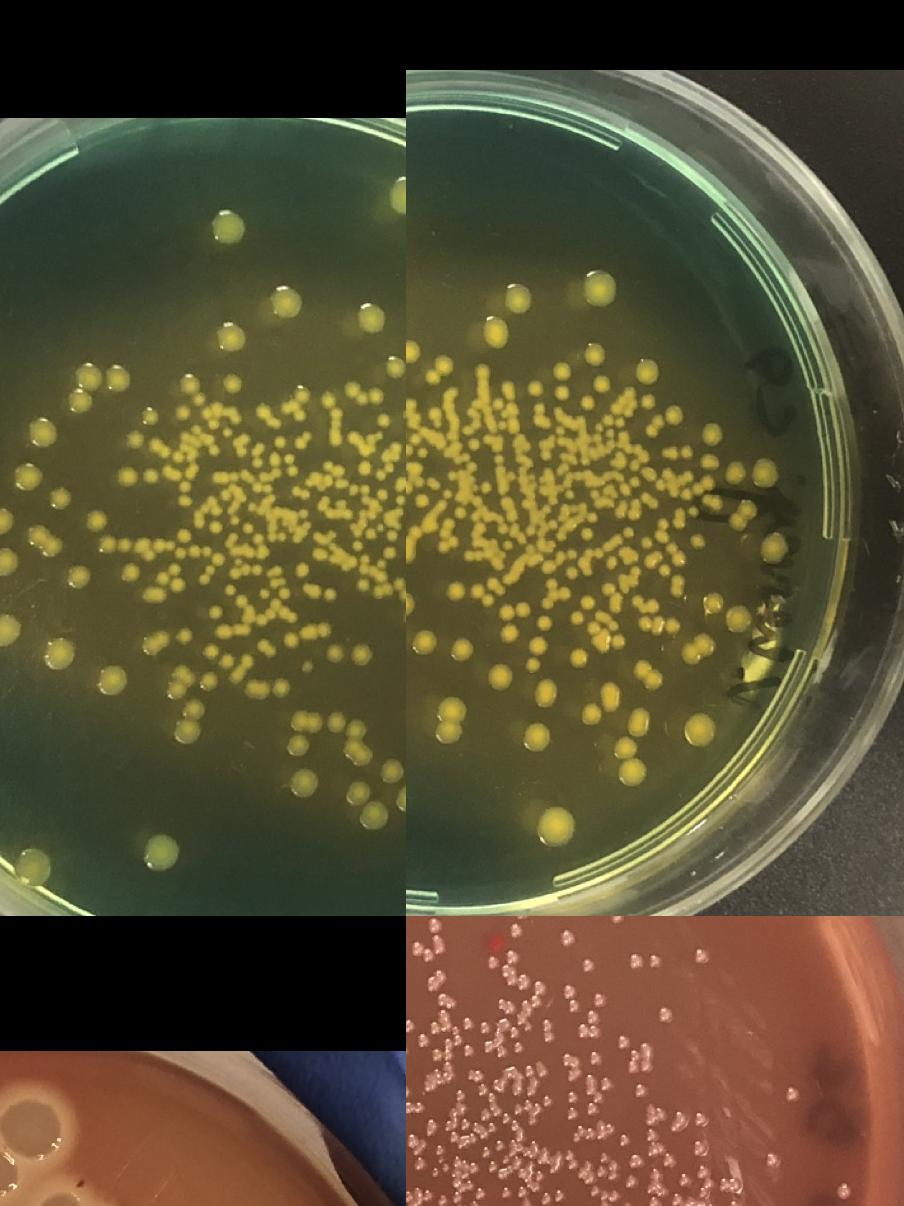assalmonicida: (564, 1149, 596, 1184), (499, 1099, 532, 1132), (625, 1042, 653, 1074), (465, 1122, 497, 1146), (574, 1010, 600, 1039), (596, 1152, 618, 1183), (696, 1166, 714, 1202), (426, 1009, 450, 1035), (410, 942, 436, 963), (502, 1066, 522, 1093), (562, 985, 581, 1013), (528, 981, 546, 1009), (482, 1041, 508, 1059), (540, 1188, 566, 1206), (644, 1130, 660, 1159), (668, 1112, 688, 1135), (500, 1184, 528, 1199), (426, 971, 446, 991), (528, 1144, 548, 1164), (509, 1159, 528, 1180), (585, 1092, 603, 1114), (717, 1178, 743, 1193), (540, 1018, 554, 1044), (428, 1163, 450, 1179), (442, 1122, 458, 1144), (454, 1088, 466, 1114), (436, 993, 454, 1009), (440, 1062, 454, 1082), (406, 1101, 426, 1114), (517, 1200, 558, 1206), (596, 1201, 641, 1206), (412, 1158, 426, 1172), (416, 1034, 430, 1048), (426, 919, 440, 933), (429, 1048, 443, 1062), (461, 1044, 475, 1058), (461, 1017, 475, 1031), (502, 966, 516, 980), (504, 950, 518, 964), (508, 924, 522, 938), (511, 1041, 525, 1055), (516, 974, 530, 988), (534, 1066, 548, 1080), (540, 1094, 554, 1108), (564, 1091, 578, 1105), (565, 1107, 579, 1121), (606, 1190, 620, 1204), (616, 1134, 630, 1148), (616, 1035, 630, 1049), (628, 1155, 642, 1169), (632, 1083, 646, 1097), (662, 1154, 676, 1168), (678, 1174, 692, 1188), (693, 1141, 707, 1155), (764, 1152, 778, 1166), (473, 1186, 486, 1200), (490, 1078, 504, 1091), (504, 1027, 518, 1040), (580, 958, 594, 971), (628, 954, 642, 967), (406, 1019, 416, 1036), (424, 1122, 438, 1134), (450, 1034, 464, 1046), (501, 1002, 515, 1014), (561, 932, 575, 944), (566, 1056, 580, 1068), (588, 1052, 602, 1064), (592, 993, 604, 1007), (602, 1124, 616, 1136), (648, 956, 662, 968), (657, 1009, 671, 1021), (668, 1194, 682, 1206), (431, 1144, 444, 1156), (435, 1194, 448, 1206), (459, 1119, 472, 1131), (486, 956, 499, 968), (468, 1161, 480, 1173), (471, 1070, 483, 1082), (476, 1084, 488, 1096), (478, 1021, 490, 1033), (478, 1146, 490, 1158), (478, 1109, 490, 1121), (485, 1162, 497, 1174), (493, 1140, 505, 1152), (526, 1115, 538, 1127), (589, 1186, 601, 1198), (598, 1078, 610, 1090), (624, 1176, 636, 1188), (654, 1108, 666, 1120), (694, 1113, 706, 1125), (695, 950, 707, 962), (784, 1088, 796, 1100), (837, 1185, 849, 1197), (406, 1134, 417, 1146), (570, 1132, 581, 1144), (646, 1197, 660, 1206), (611, 916, 625, 922), (726, 1200, 740, 1206), (406, 1084, 411, 1098), (467, 1201, 479, 1206)
pddamselae: (1, 1104, 59, 1158), (0, 1151, 19, 1195), (37, 1191, 83, 1206)
vharveyi: (64, 362, 133, 417), (612, 705, 650, 789), (576, 680, 622, 728), (638, 392, 684, 440), (533, 804, 575, 850), (345, 780, 385, 828), (494, 601, 532, 645), (435, 695, 466, 747), (14, 847, 52, 887), (40, 634, 78, 674), (142, 831, 180, 871), (208, 208, 246, 248), (174, 698, 206, 745), (578, 271, 616, 309), (678, 630, 718, 666), (682, 710, 718, 750), (244, 599, 296, 626), (349, 484, 387, 519), (267, 284, 303, 320), (629, 658, 665, 692), (26, 525, 64, 557), (520, 718, 552, 756), (354, 302, 389, 336), (481, 312, 510, 352), (284, 767, 320, 799), (502, 281, 534, 316), (540, 576, 572, 611), (751, 454, 780, 492), (726, 498, 756, 534), (214, 322, 247, 354), (524, 635, 550, 675), (722, 603, 754, 635), (96, 664, 127, 696), (374, 443, 400, 480), (551, 362, 575, 402), (758, 532, 788, 564), (485, 662, 514, 694), (632, 355, 661, 387), (531, 677, 558, 711), (12, 462, 42, 492), (26, 418, 56, 448), (409, 626, 437, 658), (0, 611, 22, 651), (344, 382, 384, 404), (192, 498, 220, 528), (245, 680, 288, 699), (447, 634, 475, 662), (387, 175, 406, 215), (372, 579, 406, 601), (383, 493, 406, 525), (142, 629, 170, 655), (582, 341, 608, 369), (0, 486, 14, 537), (468, 582, 494, 608), (599, 413, 626, 438), (350, 743, 375, 769), (380, 757, 404, 784), (66, 564, 90, 590), (285, 732, 309, 758), (98, 534, 129, 554), (406, 321, 420, 365), (700, 588, 722, 616), (700, 420, 722, 448), (406, 433, 428, 460), (722, 461, 746, 485), (200, 404, 222, 430), (324, 462, 346, 488), (280, 399, 304, 422), (0, 547, 18, 577), (292, 713, 320, 732), (83, 508, 107, 530), (441, 581, 465, 603), (568, 648, 590, 672), (49, 487, 72, 509), (590, 372, 612, 395), (164, 679, 186, 701), (667, 574, 686, 598), (228, 565, 260, 579), (266, 522, 288, 542), (270, 577, 290, 599), (433, 354, 455, 374), (148, 439, 171, 457), (632, 614, 652, 634), (687, 532, 707, 552), (136, 539, 154, 561), (231, 434, 249, 456), (294, 430, 312, 452), (180, 434, 197, 457), (246, 498, 270, 514), (197, 564, 214, 586), (395, 785, 406, 818), (534, 614, 554, 632), (579, 392, 597, 412), (664, 614, 682, 634), (218, 625, 250, 636), (257, 638, 275, 657), (334, 501, 352, 520), (210, 472, 238, 484), (406, 587, 416, 620), (352, 646, 370, 664), (386, 358, 404, 376), (412, 492, 430, 510), (608, 633, 626, 651), (188, 544, 212, 557), (304, 625, 328, 638), (328, 408, 342, 430), (346, 722, 363, 740), (178, 481, 190, 506), (118, 467, 134, 485), (122, 563, 138, 581), (328, 712, 344, 730), (526, 380, 544, 396), (290, 486, 310, 500), (375, 412, 392, 428), (356, 554, 370, 573), (226, 504, 239, 524), (311, 472, 331, 485), (224, 375, 240, 391), (326, 646, 342, 662), (150, 586, 164, 604), (200, 672, 214, 690), (636, 537, 654, 551), (127, 432, 142, 448), (182, 376, 196, 393), (352, 518, 366, 535), (577, 528, 594, 542), (140, 410, 156, 424), (174, 406, 190, 420), (184, 463, 198, 479), (466, 437, 480, 453), (564, 564, 578, 580), (568, 611, 584, 625), (602, 556, 618, 570), (480, 480, 494, 494), (654, 517, 668, 531), (657, 563, 671, 577), (679, 487, 693, 501), (224, 533, 237, 548), (620, 526, 636, 538), (499, 538, 512, 552), (580, 596, 594, 609), (586, 623, 600, 636), (210, 553, 224, 565), (282, 452, 296, 464), (316, 496, 328, 510), (328, 434, 342, 446), (346, 432, 360, 444), (356, 578, 370, 590), (426, 408, 440, 420), (586, 512, 600, 524), (653, 478, 665, 492), (664, 542, 676, 556), (686, 506, 700, 518), (205, 646, 218, 658), (220, 655, 233, 667), (223, 583, 236, 595), (255, 405, 268, 417), (273, 436, 286, 448), (439, 488, 452, 500), (452, 507, 465, 519), (144, 469, 156, 481), (152, 539, 164, 551), (156, 572, 168, 584), (167, 563, 179, 575), (171, 578, 183, 590), (174, 547, 186, 559), (177, 529, 189, 541), (178, 630, 190, 642), (192, 393, 204, 405), (206, 444, 218, 456), (209, 606, 221, 618), (209, 521, 221, 533), (230, 671, 242, 683), (235, 595, 247, 607), (240, 655, 252, 667), (258, 587, 270, 599), (268, 454, 280, 466), (284, 634, 296, 646), (284, 466, 296, 478), (295, 563, 307, 575), (295, 387, 307, 399), (302, 661, 314, 673), (308, 585, 320, 597), (313, 548, 325, 560), (322, 588, 334, 600), (322, 393, 334, 405), (358, 461, 370, 473), (384, 547, 396, 559), (386, 529, 398, 541), (562, 489, 574, 501), (628, 476, 640, 488), (646, 498, 658, 510), (396, 478, 406, 490)
